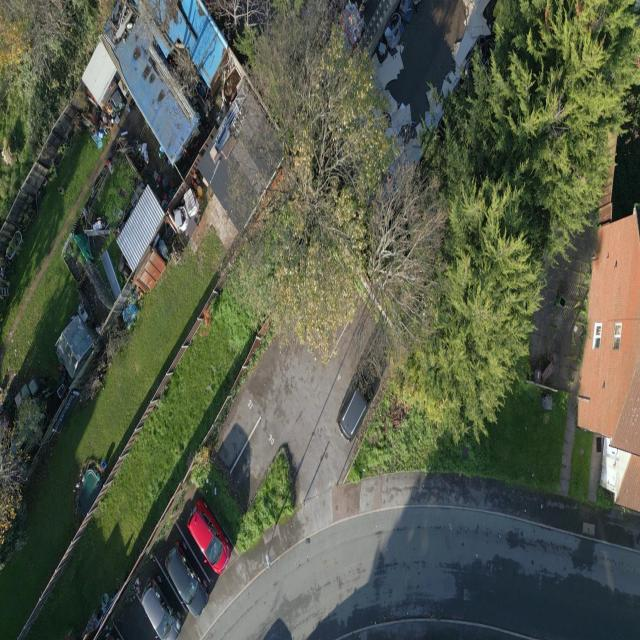Car: (337, 362, 380, 443), (164, 544, 210, 619), (188, 501, 231, 574), (139, 577, 182, 640)
